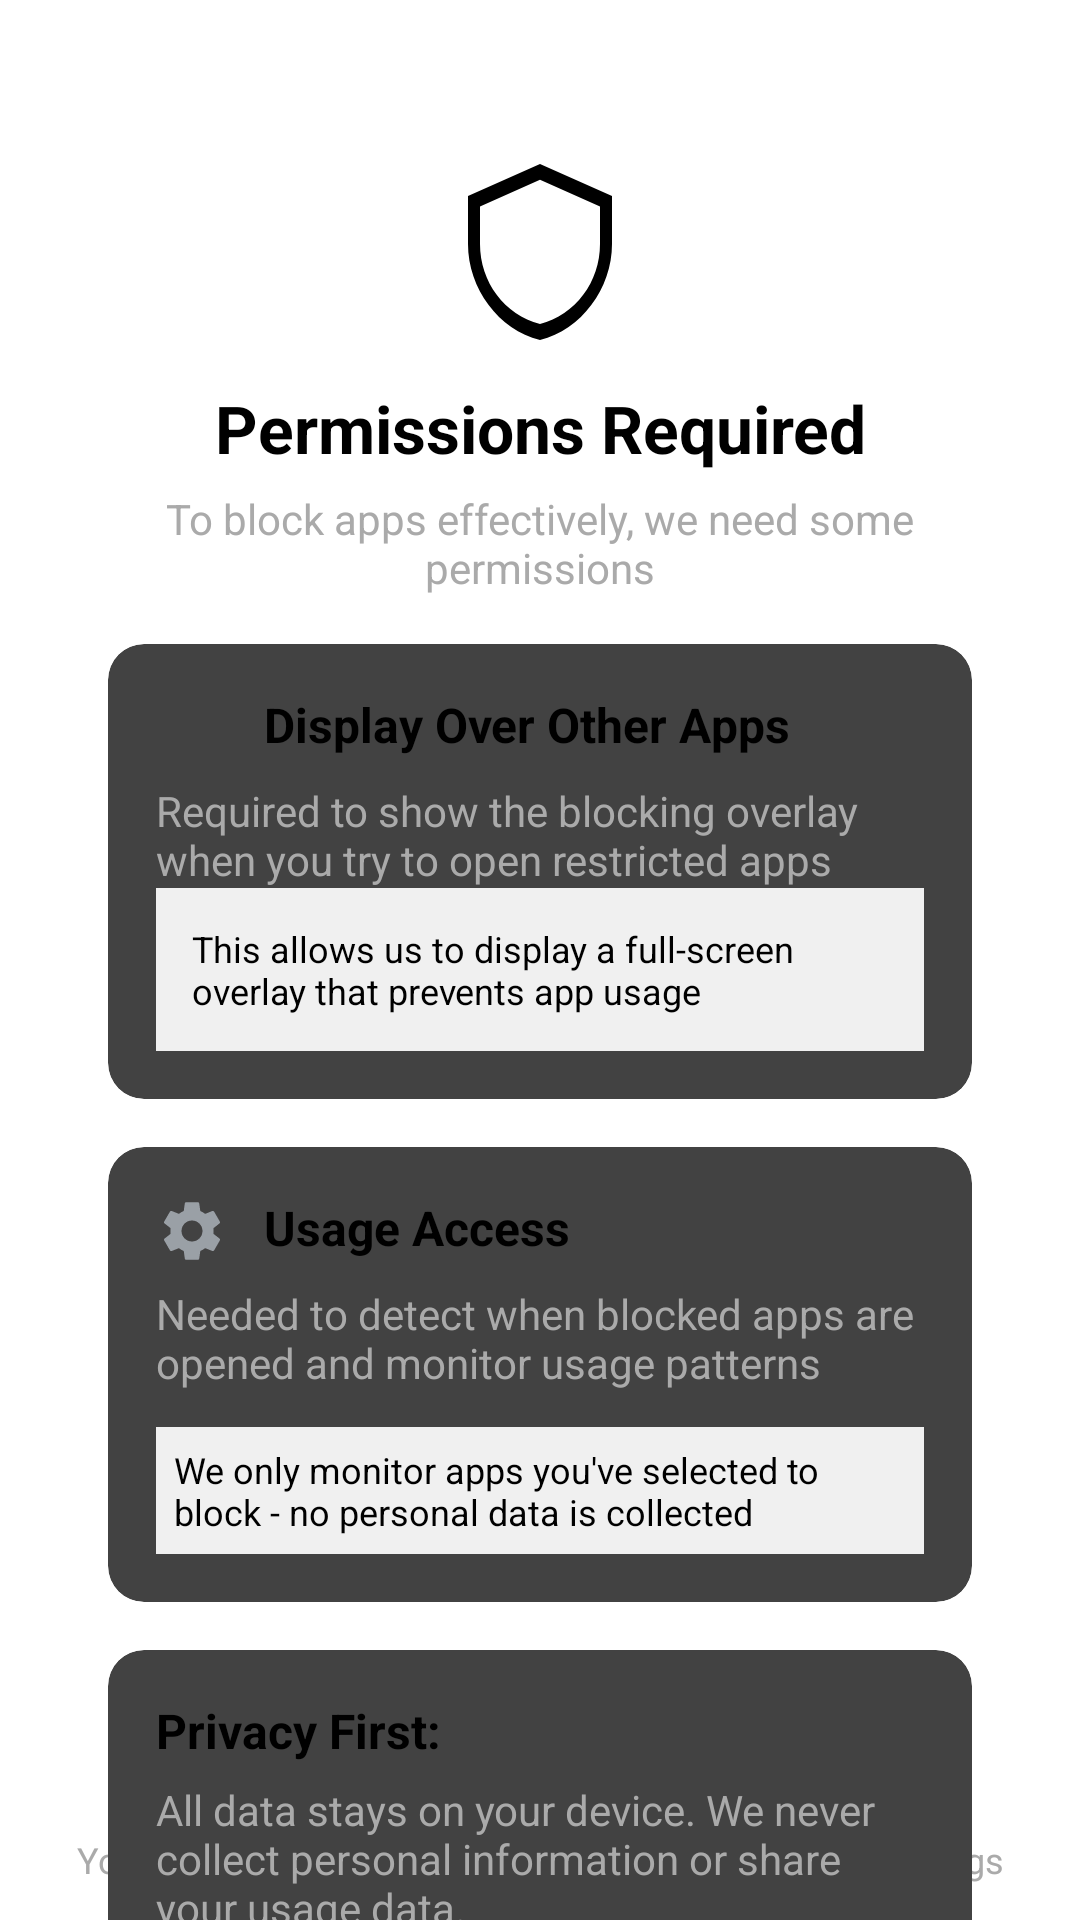

Icons on this 1080×1920 Android screen, each with its box as rect(x1, y1, x2, y2):
settings: rect(164, 1202, 220, 1260)
shield: rect(468, 164, 612, 340)
